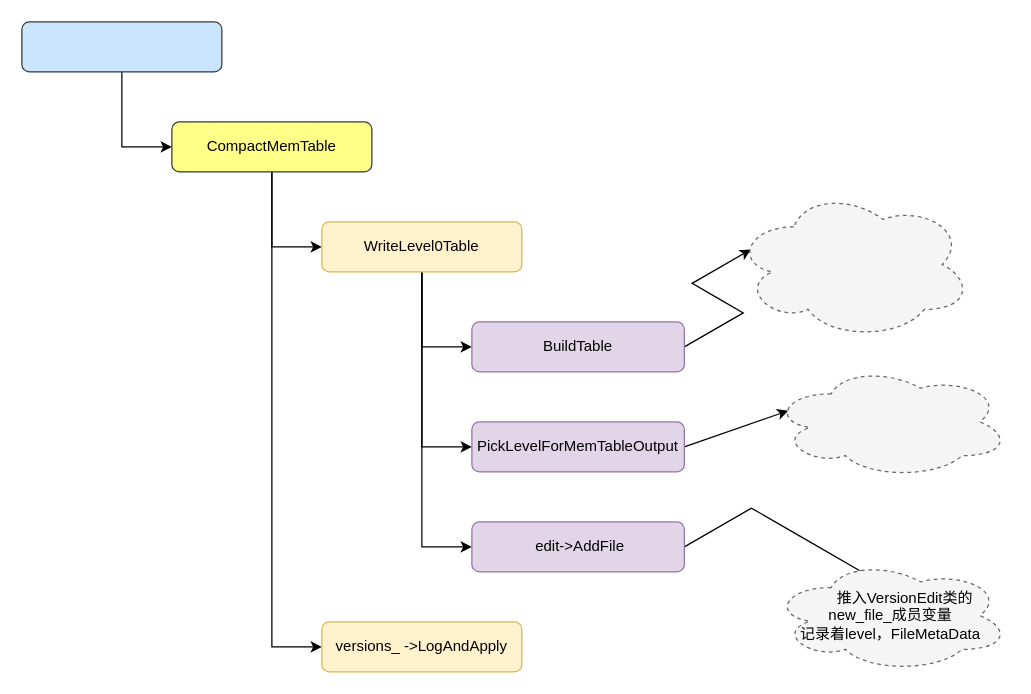
This 1031x694 diagram has some shape labels left out. The shapes that lost their labels are listed below. From the top down, each one's centre as x and y in pixels, then its label:
At [121,46]: "BackgroundCompaction".
At [852,263]: "将MemTable的内容 dump 到对应的SSTable文件".
At [890,421]: "根据最小key和最大key 计算新生成的sstable 应该属于which level".
